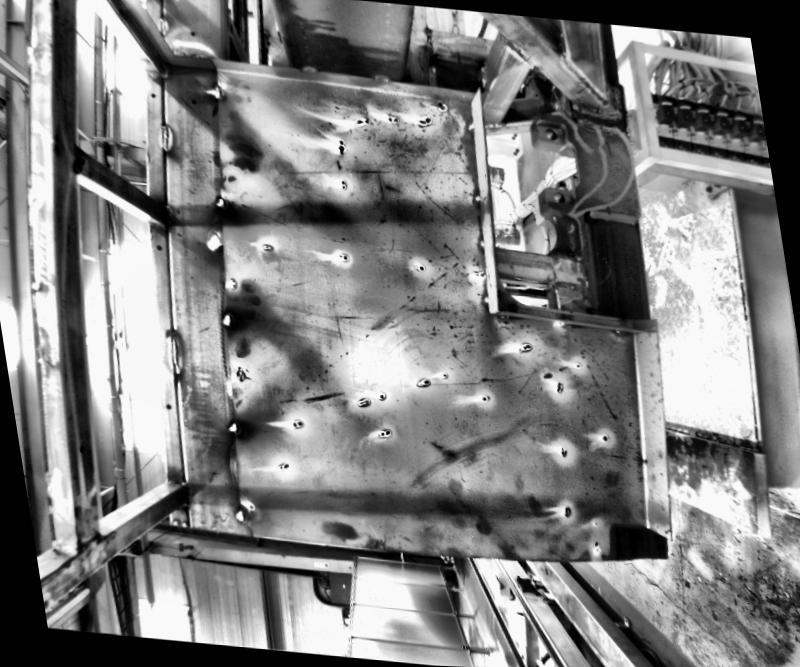hole: (550, 190, 566, 206), (542, 128, 560, 142), (154, 244, 162, 252), (74, 156, 82, 164), (435, 100, 442, 107), (162, 212, 169, 218), (183, 491, 188, 498), (190, 99, 196, 104), (166, 404, 172, 409), (190, 32, 196, 36), (150, 94, 155, 98)
welding: (560, 60, 606, 102), (506, 38, 533, 66), (169, 331, 183, 381), (226, 416, 245, 439), (156, 15, 171, 41), (212, 194, 230, 214), (158, 122, 170, 150), (213, 84, 227, 104), (219, 312, 235, 328), (74, 147, 84, 172), (464, 118, 479, 134), (370, 72, 390, 84), (232, 507, 248, 522), (180, 484, 190, 505), (162, 206, 172, 227), (554, 321, 576, 327), (301, 66, 314, 74), (473, 192, 482, 203), (482, 294, 490, 306), (615, 331, 627, 336), (500, 314, 510, 319), (478, 239, 484, 247)
